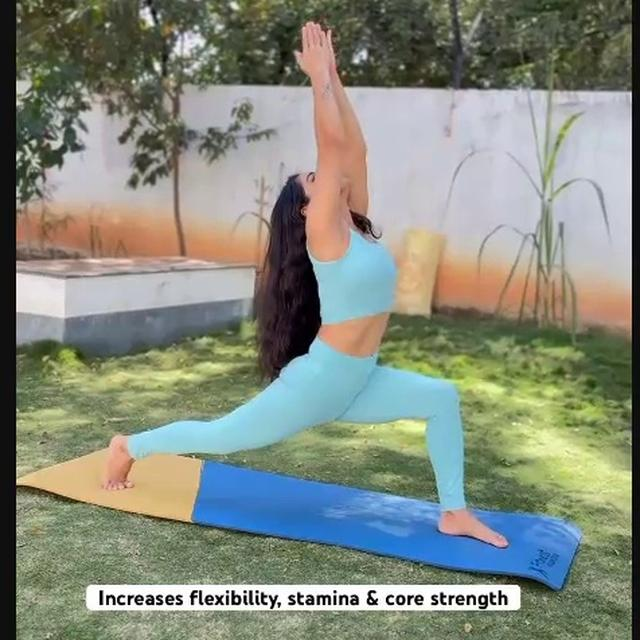Warrior_I: (97, 16, 512, 551)
